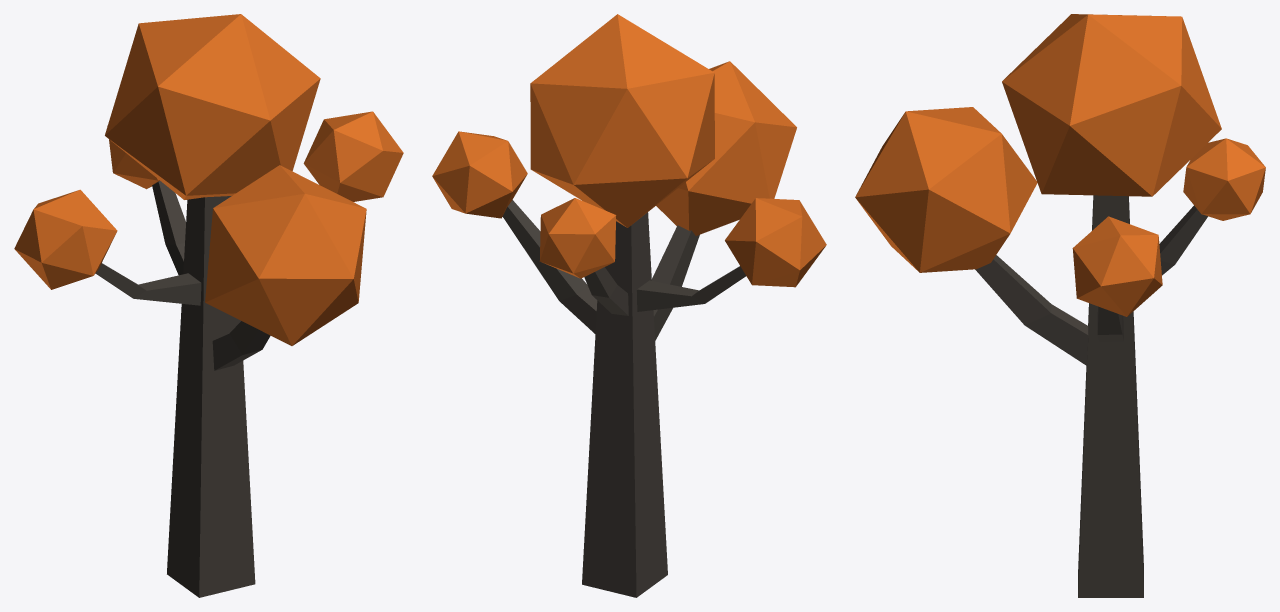
File: tree1.fbx
3 views of the same model, side by side, from view 1: azimuth 30°, elevation 25°; view 2: azimuth 150°, elevation 25°; view 3: azimuth 270°, elevation 25° (orthographic). The views are drawn at different scales.
Visible parts, largest first — view 1: Icosphere.006, Cube, Icosphere.005, Icosphere.003, Icosphere.004, Cube.002, Cube.004, Cube.003, Icosphere.002; view 2: Icosphere.006, Cube, Icosphere.005, Icosphere.003, Icosphere.004, Icosphere.002, Cube.001, Cube.002, Cube.003, Cube.004; view 3: Icosphere.006, Icosphere.005, Cube, Icosphere.004, Icosphere.002, Cube.003, Cube.004, Cube.001.
Part boxes in pixels (x1,y1,x2,y2): Icosphere.006: (105,14,320,199); Cube: (167,196,255,597); Icosphere.005: (205,165,366,345); Icosphere.003: (14,189,117,289); Icosphere.004: (303,111,403,201); Cube.002: (96,263,201,305); Cube.004: (152,181,185,275); Cube.003: (212,321,270,370); Icosphere.002: (107,126,159,189); Icosphere.006: (530,14,714,227); Cube: (582,212,667,597); Icosphere.005: (656,61,796,235); Icosphere.003: (725,198,826,287); Icosphere.004: (432,131,527,218); Icosphere.002: (539,198,616,278); Cube.001: (502,200,597,333); Cube.002: (637,266,745,311); Cube.003: (652,225,699,340); Cube.004: (584,267,628,315); Icosphere.006: (1002,14,1221,196); Icosphere.005: (855,107,1037,272); Cube: (1078,195,1143,597); Icosphere.004: (1072,216,1162,316); Icosphere.002: (1183,138,1265,220); Cube.003: (975,255,1088,365); Cube.004: (1159,205,1207,275); Cube.001: (1097,306,1123,341).
Size of the model in its own units: 1339 by 1936 by 1245.
